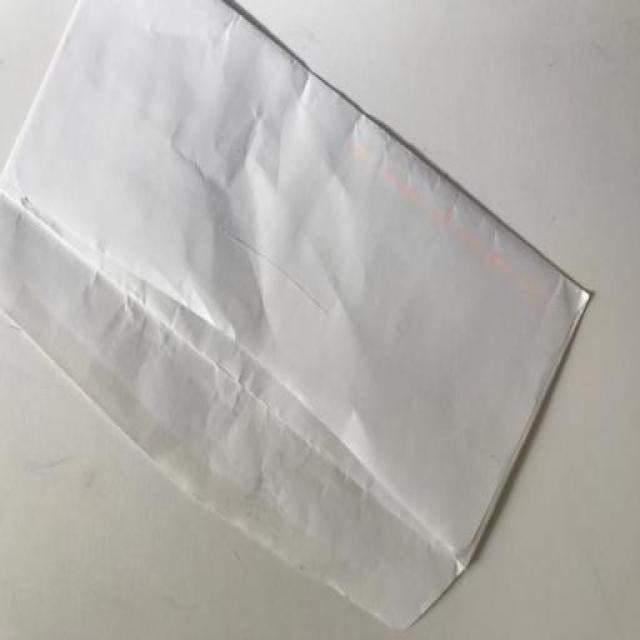Paper: (1, 0, 598, 632)
